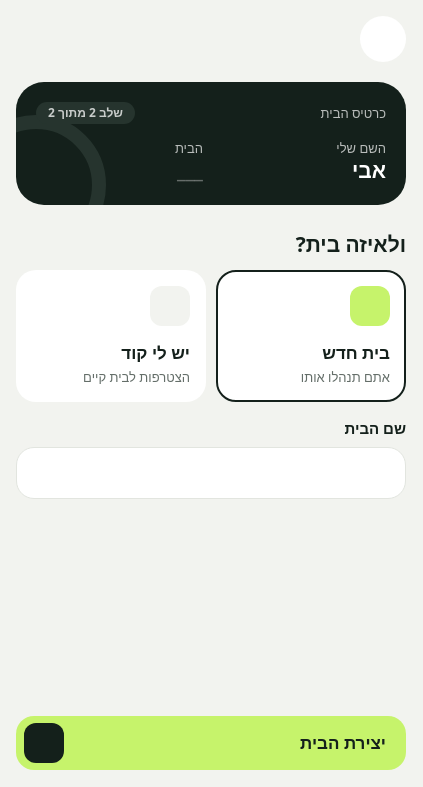
Test: T-1.16 HouseholdStepScreen states (AC-1.10) › shows INVALID_CODE with the attempts left
Click the radio button labelled "יש לי קוד הצטרפות לבית קיים" at (111,336), box [16, 270, 206, 402]
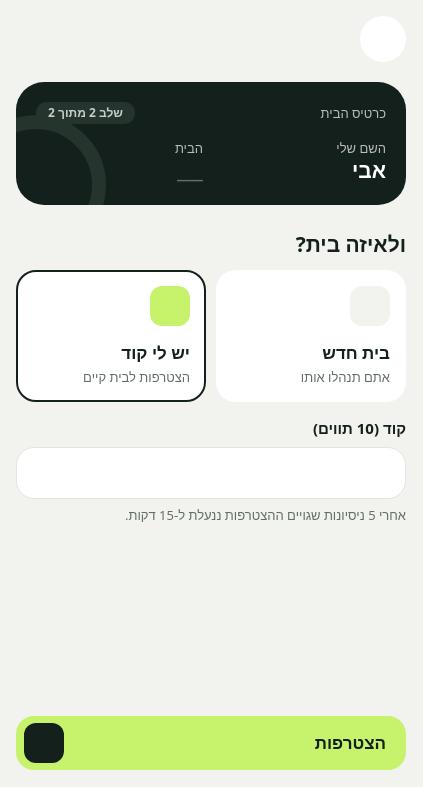
Type "k7pm4-qxd9b" into the field labelled "קוד (10 תווים)" at (211,473), box [16, 447, 406, 499]
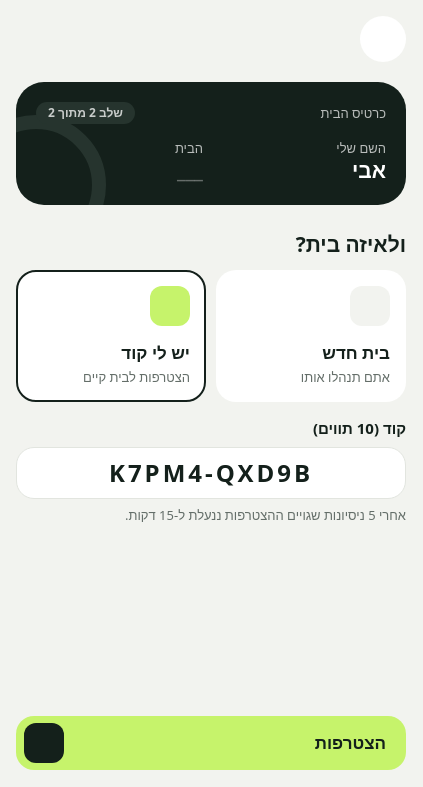
Click the button "הצטרפות" at (350,742), box [16, 716, 406, 770]
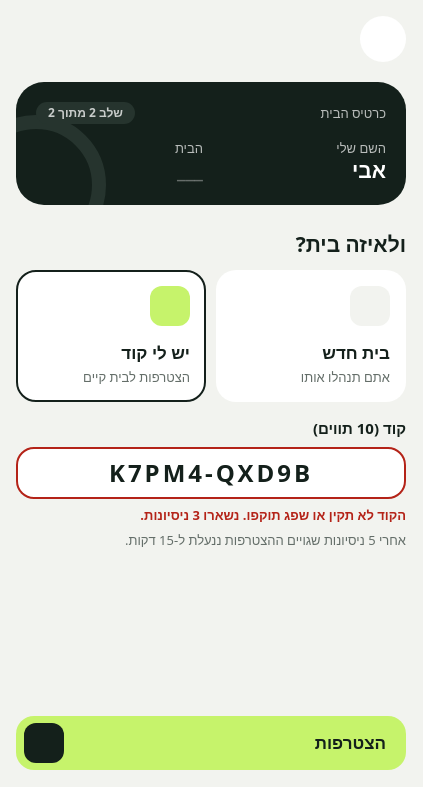
Expected: the text "הקוד לא תקין או שפג תוקפו. נשארו 3 ניסיונות." is shown, [140, 506, 406, 524]
